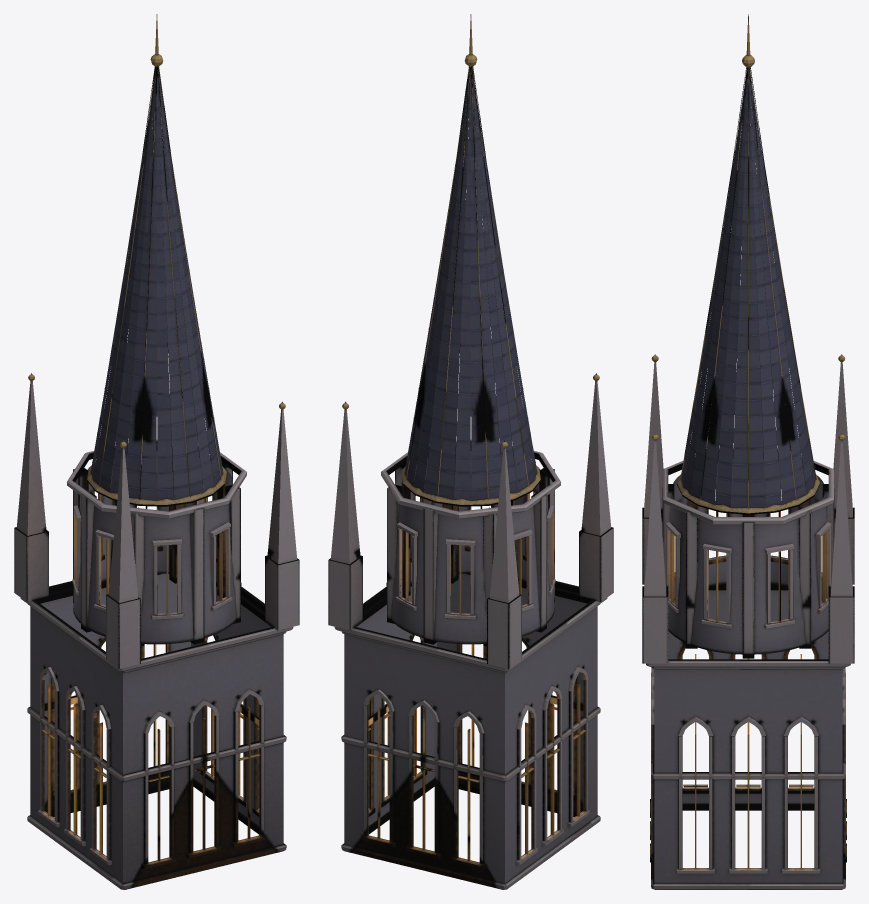
Rendered from expand_central_tower.glb.
3 renders of one model, left to right at view 1: azimuth 30°, elevation 25°; view 2: azimuth 150°, elevation 25°; view 3: azimuth 270°, elevation 25°, orthographic.
Parts seen in each view (by area): view 1: expand_central_tower_GI; view 2: expand_central_tower_GI; view 3: expand_central_tower_GI.
Boxes of the visible parts, <box> form: expand_central_tower_GI: <box>14,14,299,889</box>; expand_central_tower_GI: <box>328,14,613,889</box>; expand_central_tower_GI: <box>642,14,854,889</box>.
Size of the model in its own units: 10.48 by 45.47 by 10.48.
Materials: 1 (1 with a texture image).
